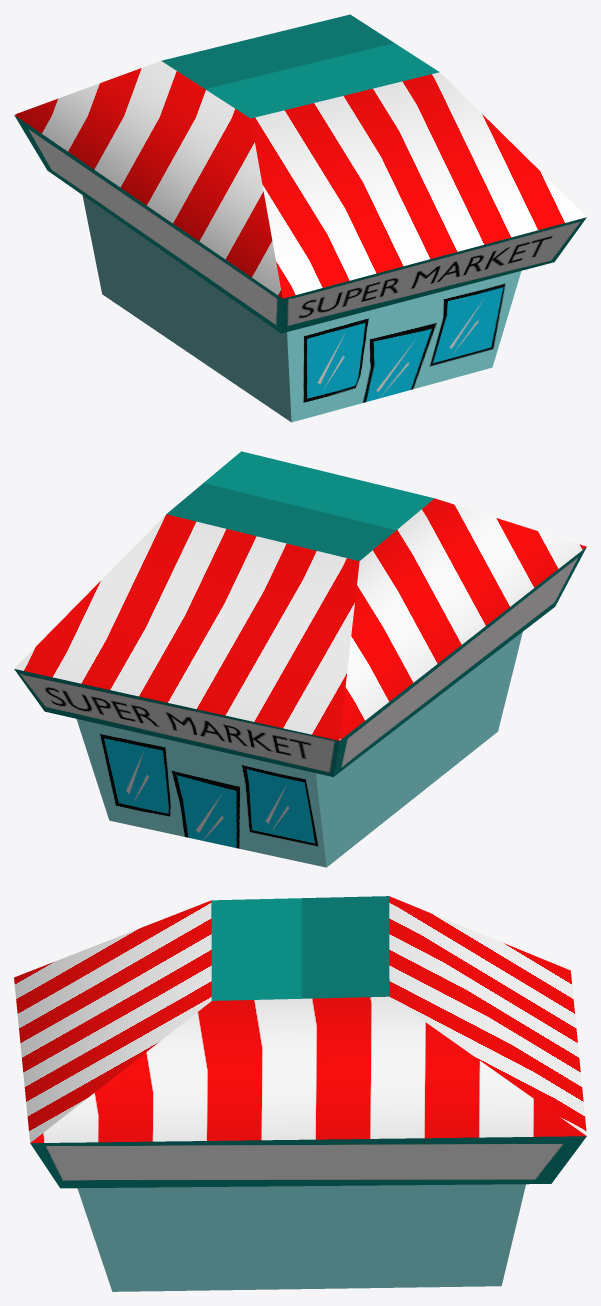
The model's file is Super_Market.fbx.
3 views of the same model, one above another, from view 1: azimuth 30°, elevation 25°; view 2: azimuth 150°, elevation 25°; view 3: azimuth 270°, elevation 25° (orthographic). The views are drawn at different scales.
Visible parts, largest first — view 1: polySurface4; view 2: polySurface4; view 3: polySurface4.
Boxes of the visible parts, box(x1,y1,x2,y2) form: polySurface4: box(14, 14, 586, 422); polySurface4: box(14, 451, 586, 867); polySurface4: box(14, 896, 586, 1291).
Bounding box in the file's own units: 26.3 × 20.4 × 36.89.
